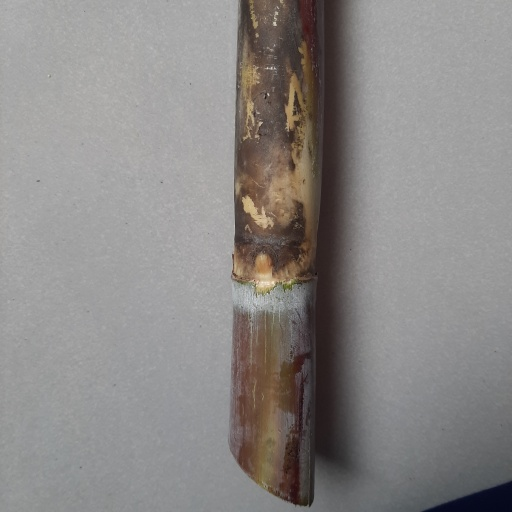Bud: (253, 249, 274, 273)
